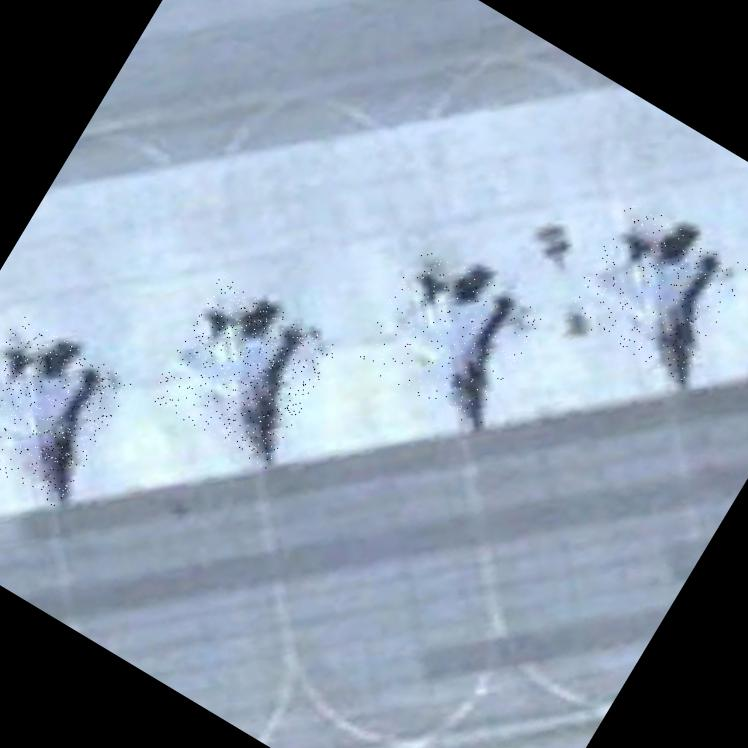A15: (352, 242, 547, 434), (147, 275, 339, 470), (562, 197, 748, 384), (0, 312, 134, 509)
